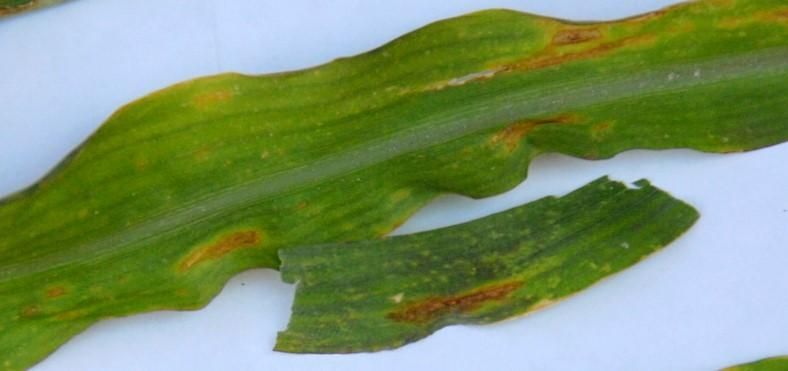Corn_Blight: (432, 8, 745, 85), (355, 271, 589, 331), (138, 223, 286, 295)
